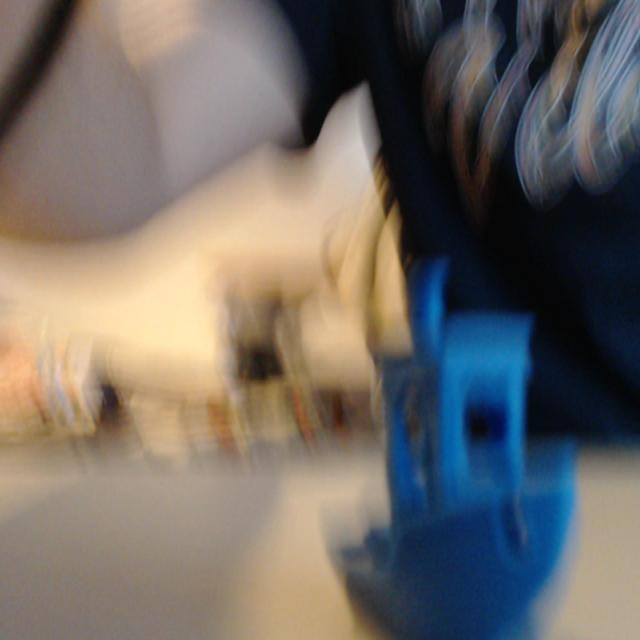benchy: (322, 251, 581, 638)
